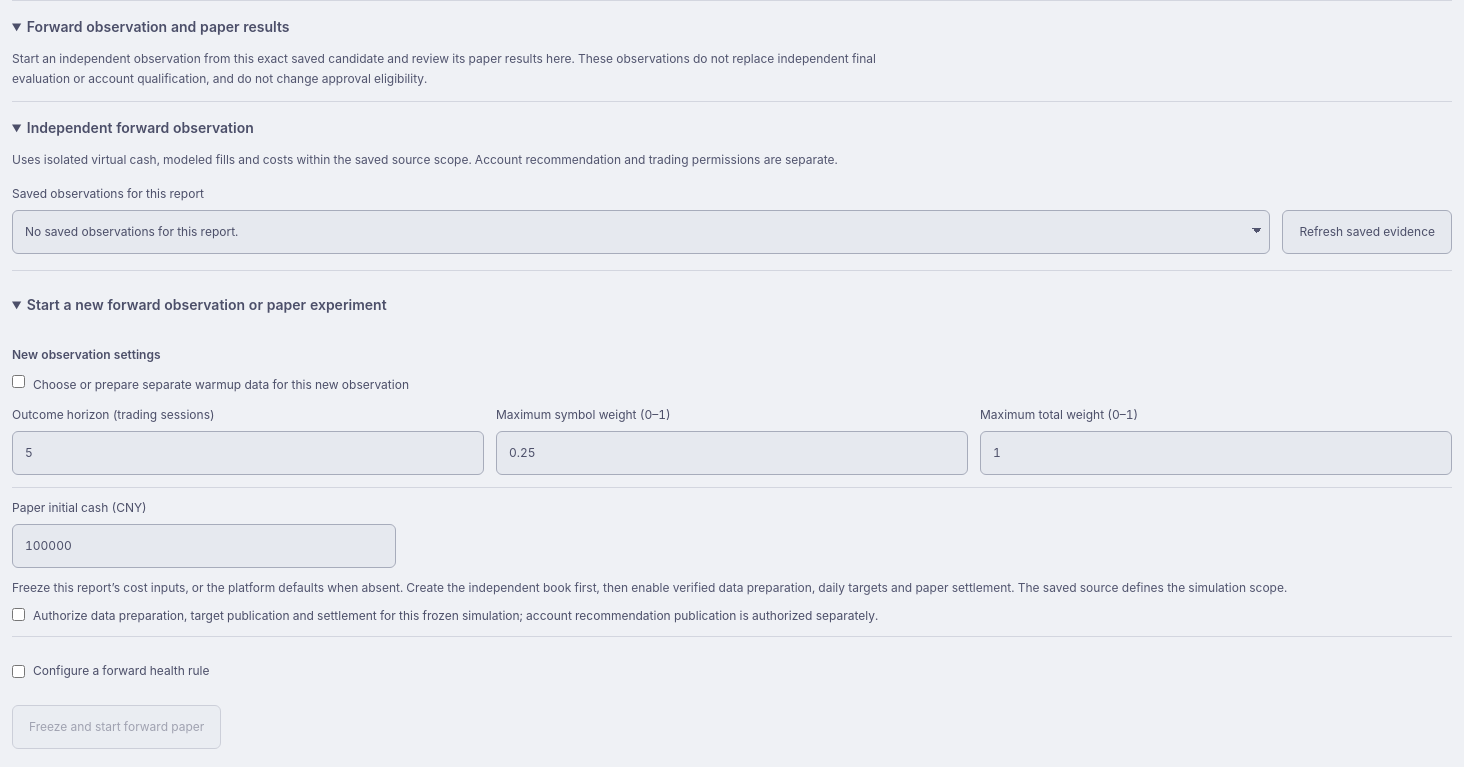
Test case: starts observation, book and automation in order, resuming a partial failure (none)
Expected: the button "Freeze and start forward paper" is disabled, [12, 705, 221, 749]
Click the checkbox labelled "Authorize data preparation, target publication and settlement".
click(18, 614)  # box [12, 608, 25, 621]
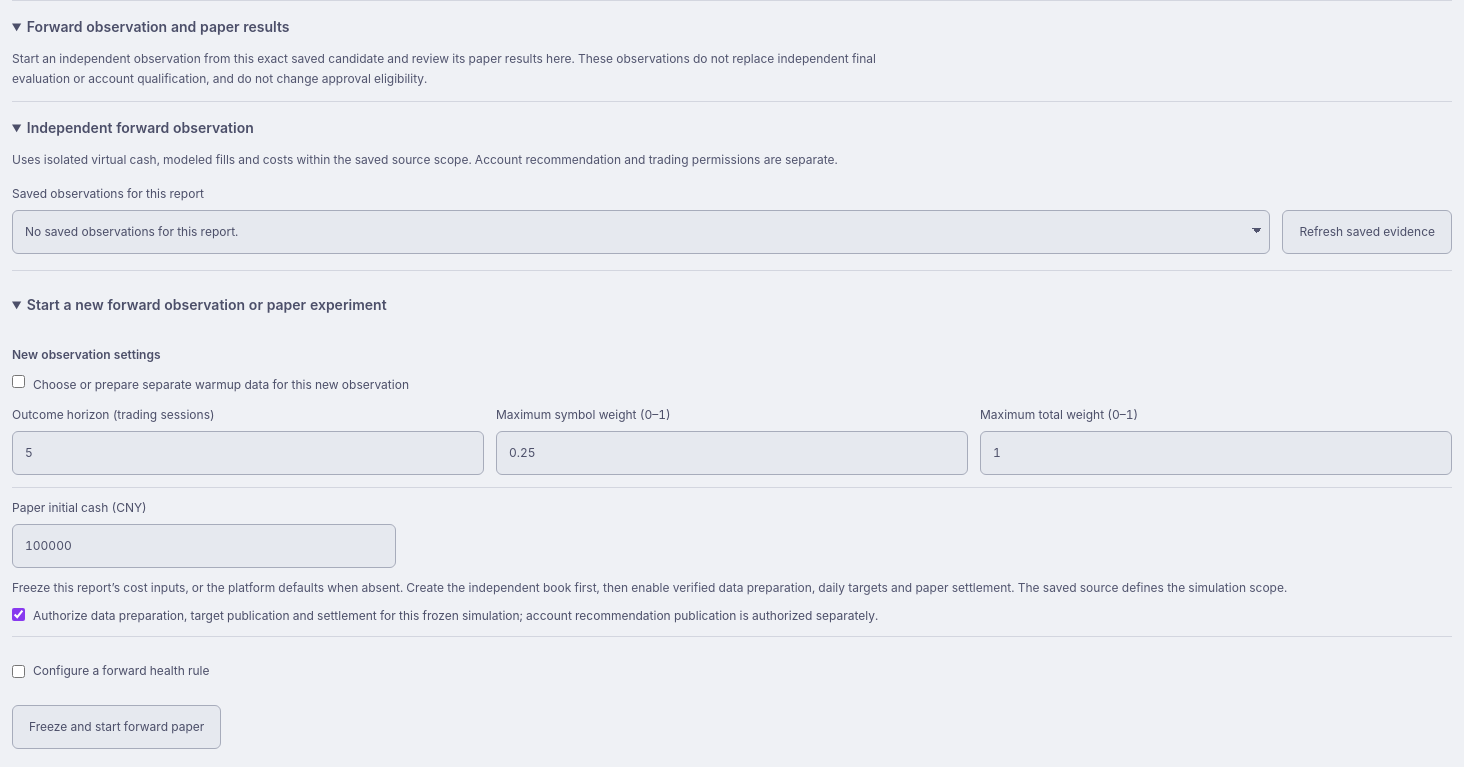
Expected: the button "Freeze and start forward paper" is enabled
Click the button "Freeze and start forward paper".
click(117, 727)  # box [12, 705, 221, 749]
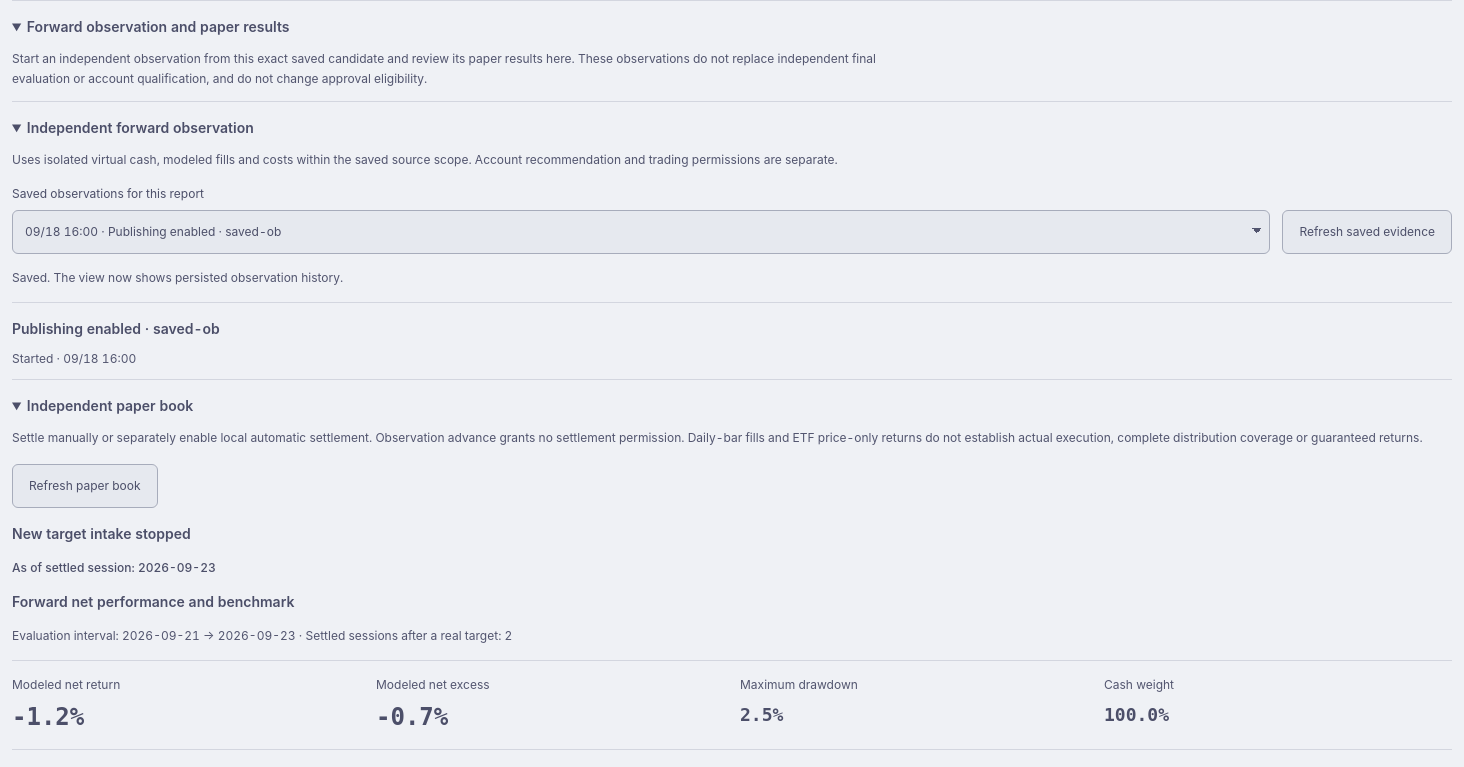
Expected: the text "Publishing enabled · saved-ob" is shown, [12, 320, 220, 337]
